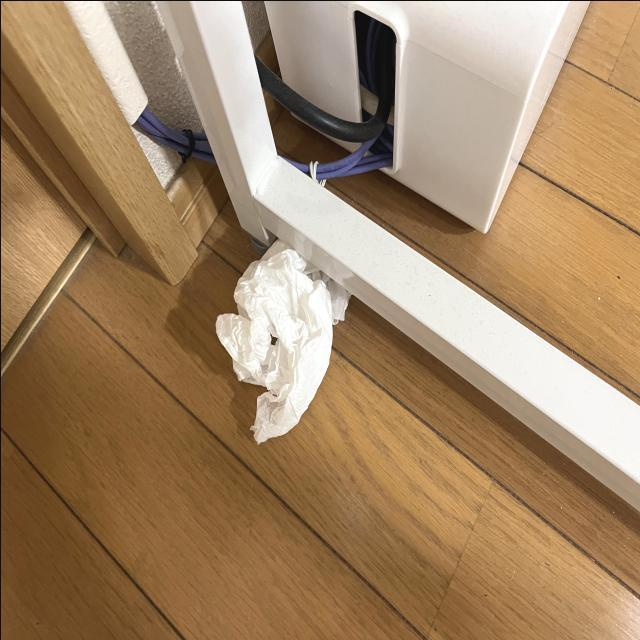Paper: (214, 215, 368, 449)
